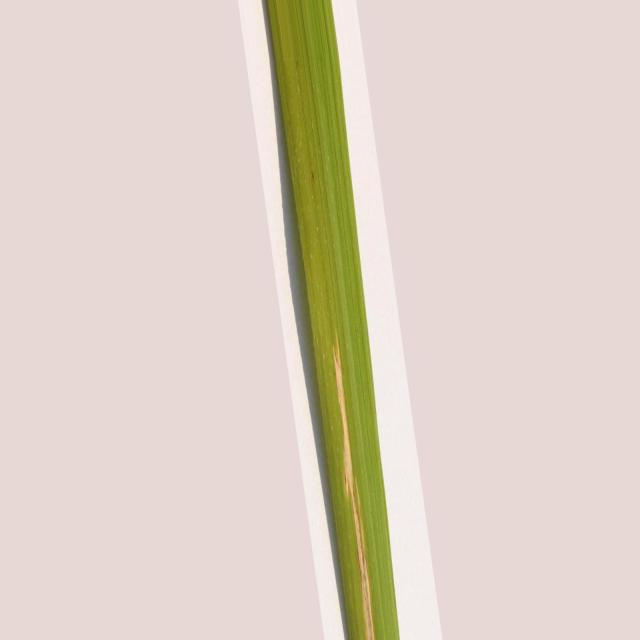Bacterial_Leaf_Blight: (332, 332, 375, 640)
